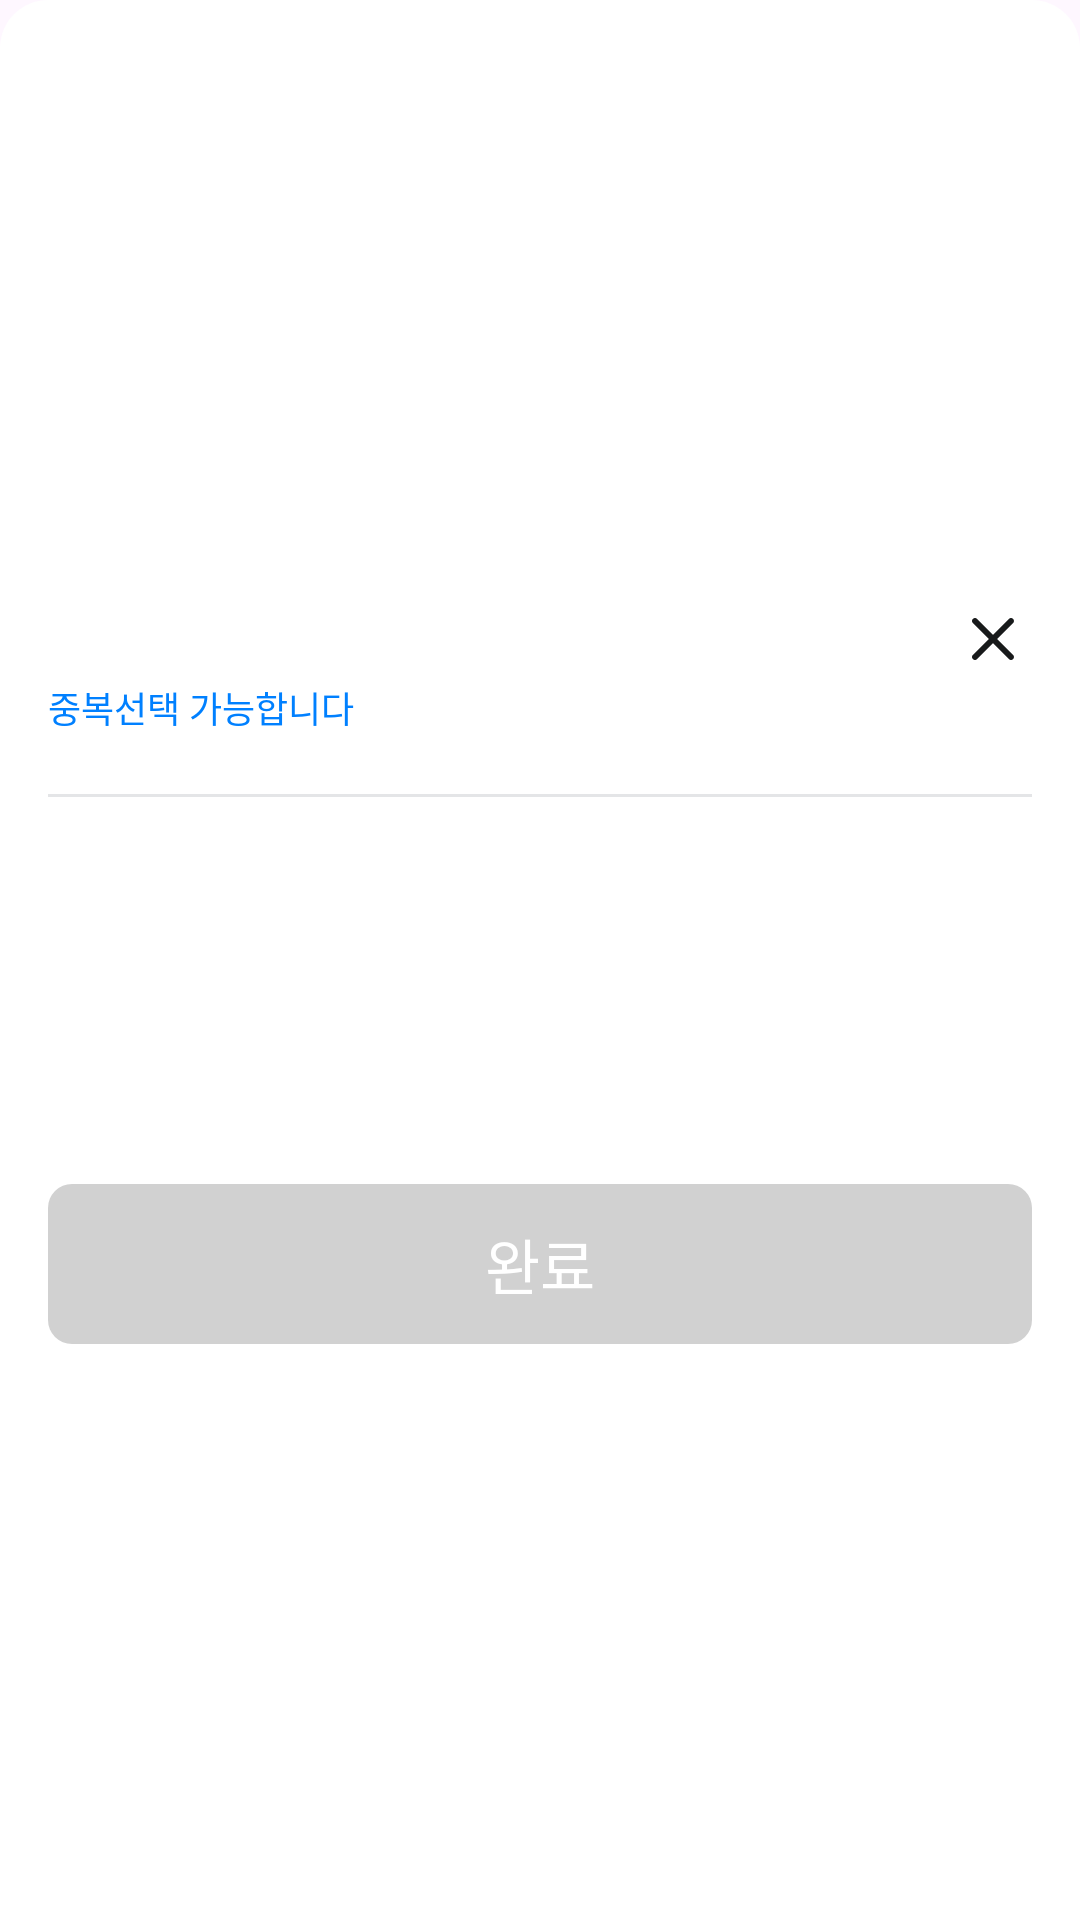

Screen size 1080 × 1920. Icon name, then its center in pixels as point (x, y):
close: point (993, 639)
